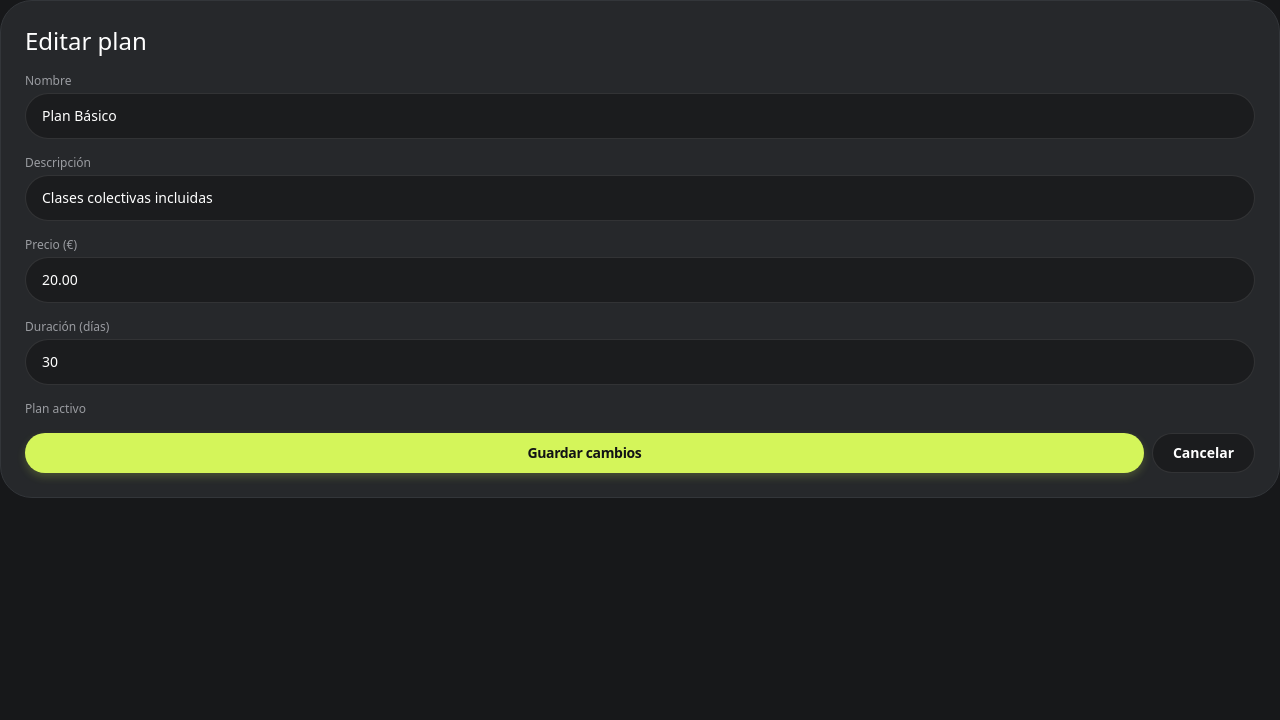
Test: PlanEditForm › no envía con precio inválido y muestra el mensaje
Clear the field labelled "Precio (€)": [640, 280] box [25, 257, 1255, 303]
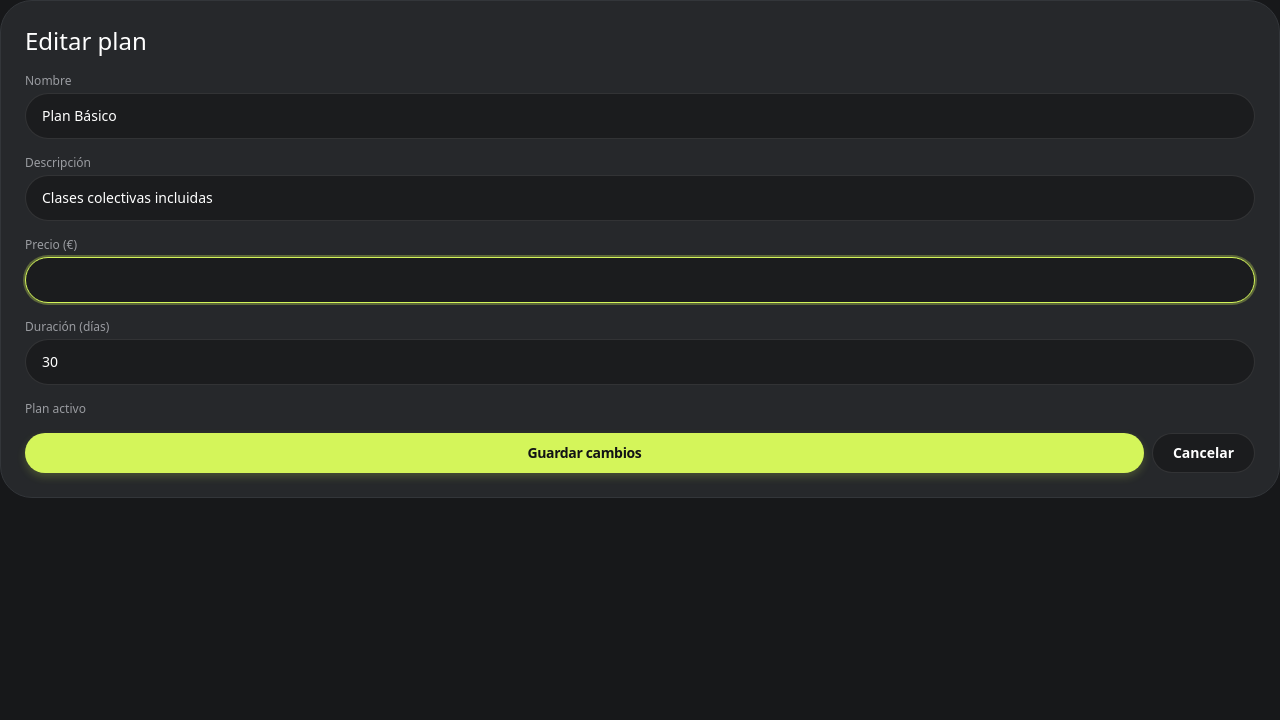
Click the button "Guardar cambios": [584, 453] box [25, 433, 1144, 473]
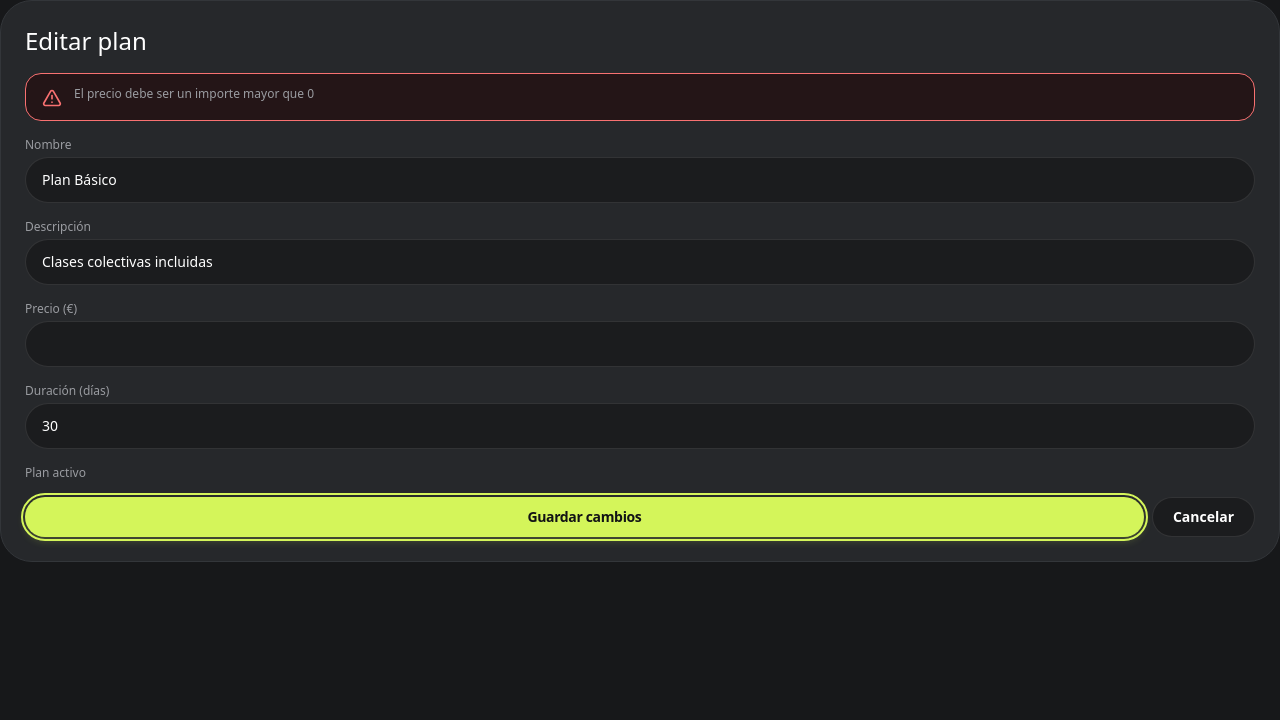
Now the text "El precio debe ser un importe mayor que 0" is shown, box [74, 85, 314, 102]
